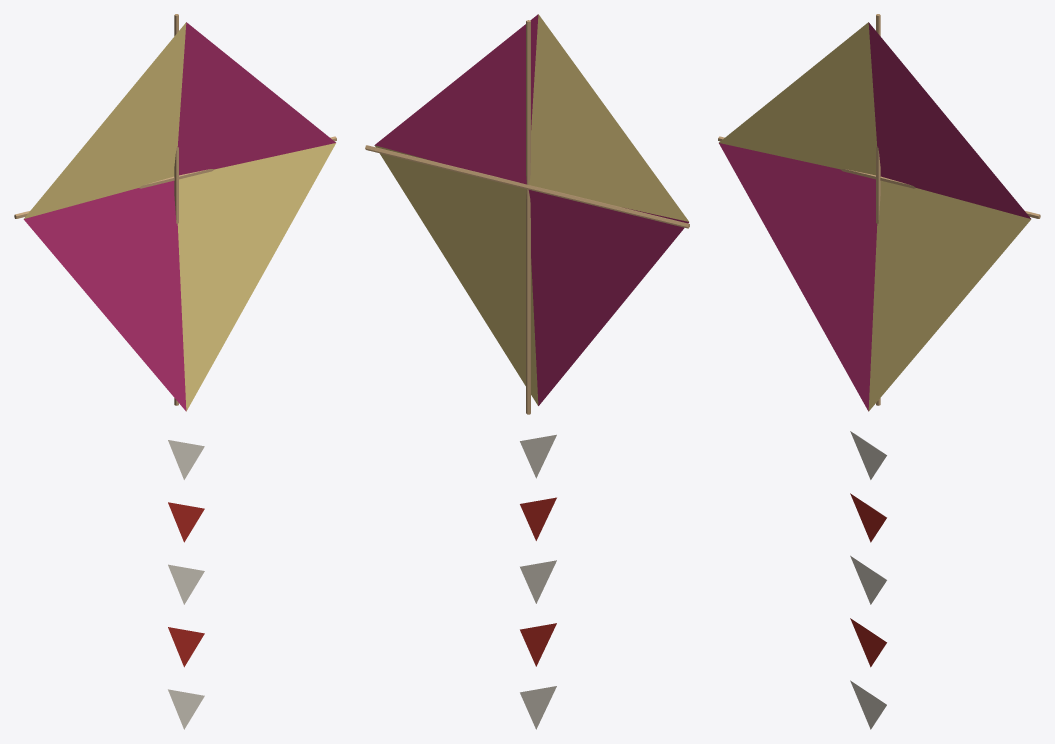
Rendered from kite.glb.
3 views of the same model, side by side, from view 1: azimuth 30°, elevation 25°; view 2: azimuth 150°, elevation 25°; view 3: azimuth 330°, elevation 25° (orthographic).
Parts seen in each view (by area): view 1: kite.001; view 2: kite.001; view 3: kite.001.
Boxes of the visible parts, box(x1,y1,x2,y2) form: kite.001: box(14, 14, 336, 729); kite.001: box(365, 14, 689, 729); kite.001: box(718, 14, 1040, 729).
Bounding box in the file's own units: 0.86 × 1.82 × 0.056.
